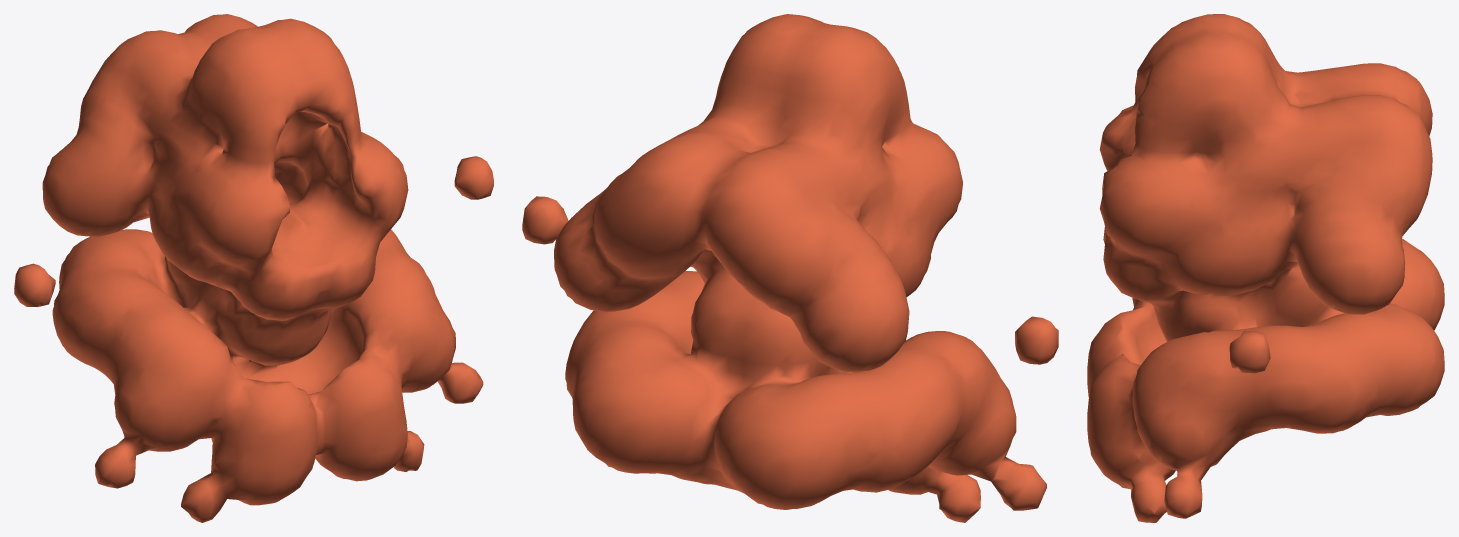
The picture shows the model from 3 angles, left to right: view 1: azimuth 30°, elevation 25°; view 2: azimuth 150°, elevation 25°; view 3: azimuth 270°, elevation 25°; orthographic projection. The views are drawn at different scales.
Parts seen in each view (by area): view 1: GDExample; view 2: GDExample; view 3: GDExample.
Part boxes in pixels (x1,y1,x2,y2): GDExample: (14, 14, 493, 522); GDExample: (522, 14, 1058, 522); GDExample: (1087, 14, 1444, 522).
Size of the model in its own units: 3.53 by 3.13 by 2.3.
